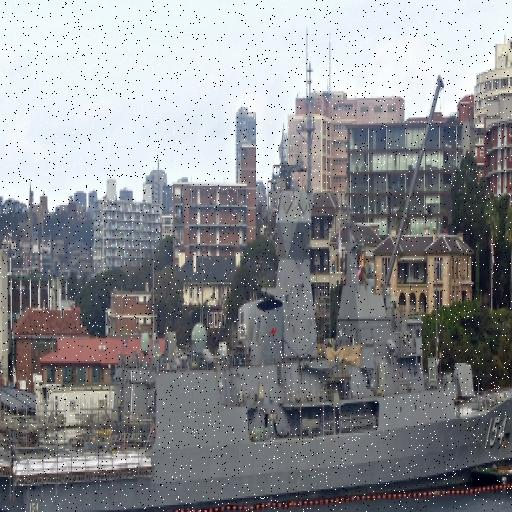Fragata: (1, 111, 512, 512)
